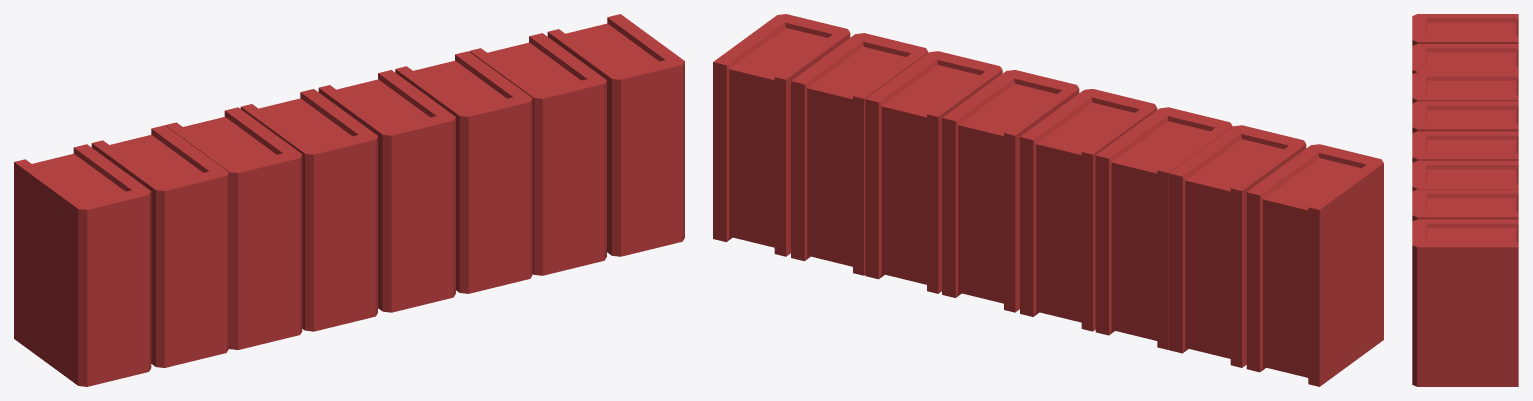
The model's file is bookstack2.fbx.
The picture shows the model from 3 angles, left to right: view 1: azimuth 30°, elevation 25°; view 2: azimuth 150°, elevation 25°; view 3: azimuth 270°, elevation 25°; orthographic projection. The views are drawn at different scales.
Parts seen in each view (by area): view 1: bookstack2; view 2: bookstack2; view 3: bookstack2.
Part boxes in pixels (bbox=[...]): bookstack2: bbox=[14, 14, 684, 386]; bookstack2: bbox=[713, 14, 1383, 386]; bookstack2: bbox=[1412, 14, 1518, 386].
Size of the model in its own units: 83.95 by 23.4 by 16.19.
